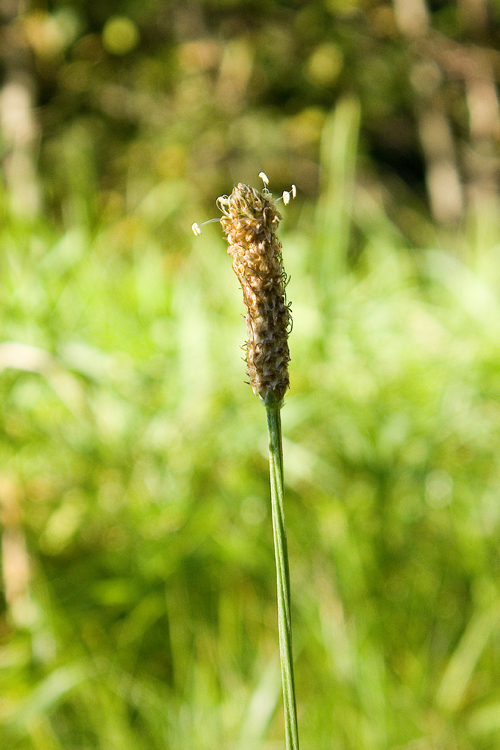buckhorn plantain: (156, 167, 367, 566)
